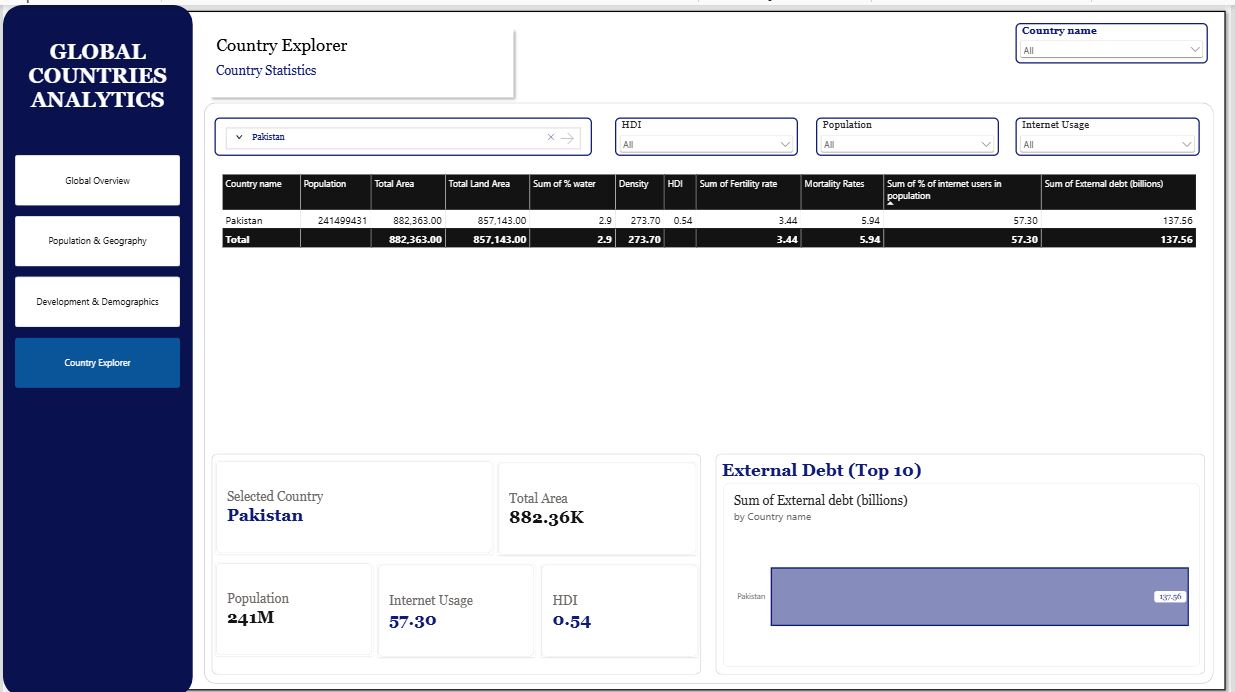

Layout of this report page (visuals, bound fields, positions):
{"tool":"powerbi","page":{"name":"Country Explorer","canvas":[1920,1080],"ordinal":3},"visuals":[{"type":"shape","box":[0,0,1920.1,1080.4],"z":0},{"type":"shape","box":[313.1,27.1,492.2,124.9],"z":0,"group":"g1"},{"type":"shape","box":[0,0,296.8,1080.4],"z":1000},{"type":"shape","box":[331.3,90.7,457.8,34.4],"z":1000,"group":"g1"},{"type":"pageNavigator","box":[18.1,235.3,258.8,365.6],"z":2000},{"type":"shape","box":[18.1,27.1,258.8,170.1],"z":3000},{"type":"group","id":"g1","title":"Group 1","box":[313.1,27.1,492.2,124.9],"z":4000},{"type":"textbox","box":[1241.4,269.6,56.1,56.1],"z":5000},{"type":"shape","box":[313.1,152,1578,908.4],"z":6000},{"type":"slicer","fields":{"Values":["country_stats.% of internet users in population"]},"box":[1583.5,175.5,287.7,59.7],"z":7000},{"type":"slicer","fields":{"Values":["country_stats.Population"]},"box":[1270.4,175.5,285.9,59.7],"z":8000},{"type":"slicer","fields":{"Values":["country_stats.HDI"]},"box":[955.5,175.5,285.9,59.7],"z":9000},{"type":"tableEx","fields":{"Values":["country_stats.Country name","country_stats.Population","country_stats.Total Area","country_stats.Total Land Area","Sum(country_stats.% water)","country_stats.Density","country_stats.HDI","Sum(country_stats.Fertility rate)","country_stats.Mortality Rates","Sum(country_stats.% of internet users in population)","Sum(country_stats.External debt (billions))"]},"box":[325.7,249.7,1558.1,437.9],"z":10000},{"type":"shape","box":[1114.8,700.1,765.5,345.6],"z":11000},{"type":"hundredPercentStackedBarChart","fields":{"Category":["country_stats.Country name"],"Y":["Sum(country_stats.External debt (billions))"]},"box":[1125.6,747.4,745.6,285.9],"z":12000},{"type":"slicer","fields":{"Values":["country_stats.Country name"]},"box":[1583.5,27.1,300.4,63.3],"z":13000},{"type":"textSlicer","fields":{"Values":["country_stats.Country name"]},"box":[331.2,175.5,589.9,59.7],"z":14000},{"type":"shape","box":[326.1,700.1,765.5,345.6],"z":15000},{"type":"cardVisual","fields":{"Data":["country_stats.Selected Country"]},"box":[331.8,712.7,432.6,144.8],"z":16000},{"type":"cardVisual","fields":{"Data":["country_stats.Selected Population"]},"box":[331.8,873,244.6,144.8],"z":17000},{"type":"cardVisual","fields":{"Data":["country_stats.Selected Total Area"]},"box":[774.6,714.1,310.7,144.8],"z":18000},{"type":"cardVisual","fields":{"Data":["country_stats.Selected HDI"]},"box":[840.7,874.4,244.6,144.8],"z":19000},{"type":"cardVisual","fields":{"Data":["country_stats.Selected Internet Usage"]},"box":[586.2,874.4,244.6,144.8],"z":20000}]}

Visuals, with their boxes on the page's 1920x1080 design canvas (x1, y1, x2, y2). These are canvas units, not pixel positions in the 1235x692 screenshot, which may show the page scaled, cropped or inside an application window:
shape: detection(0, 0, 1920, 1080)
shape: detection(313, 27, 805, 152)
shape: detection(0, 0, 297, 1080)
shape: detection(331, 91, 789, 125)
pageNavigator: detection(18, 235, 277, 601)
shape: detection(18, 27, 277, 197)
"Group 1" group: detection(313, 27, 805, 152)
textbox: detection(1241, 270, 1298, 326)
shape: detection(313, 152, 1891, 1060)
slicer - country_stats.% of internet users in population: detection(1584, 176, 1871, 235)
slicer - country_stats.Population: detection(1270, 176, 1556, 235)
slicer - country_stats.HDI: detection(956, 176, 1241, 235)
tableEx - country_stats.Country name x country_stats.Population: detection(326, 250, 1884, 688)
shape: detection(1115, 700, 1880, 1046)
hundredPercentStackedBarChart - country_stats.Country name x Sum(country_stats.External debt (billions)): detection(1126, 747, 1871, 1033)
slicer - country_stats.Country name: detection(1584, 27, 1884, 90)
textSlicer - country_stats.Country name: detection(331, 176, 921, 235)
shape: detection(326, 700, 1092, 1046)
cardVisual - country_stats.Selected Country: detection(332, 713, 764, 858)
cardVisual - country_stats.Selected Population: detection(332, 873, 576, 1018)
cardVisual - country_stats.Selected Total Area: detection(775, 714, 1085, 859)
cardVisual - country_stats.Selected HDI: detection(841, 874, 1085, 1019)
cardVisual - country_stats.Selected Internet Usage: detection(586, 874, 831, 1019)
